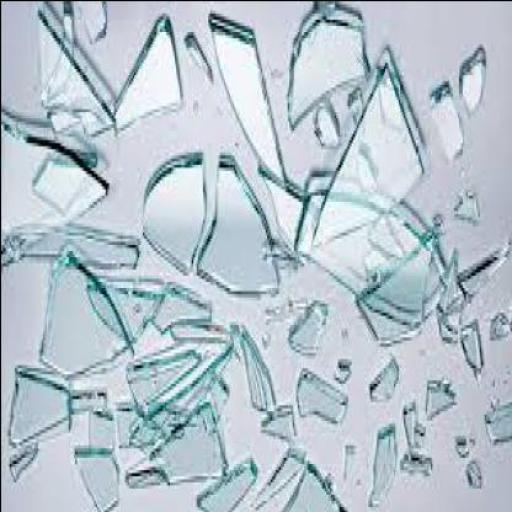glass: (310, 58, 420, 250), (254, 179, 414, 302), (1, 126, 105, 270), (205, 18, 285, 188), (39, 253, 130, 376), (123, 352, 229, 457), (284, 2, 366, 133), (196, 161, 274, 296), (32, 12, 110, 136), (352, 238, 428, 352), (108, 19, 180, 139), (138, 154, 202, 280), (146, 407, 226, 490), (294, 185, 377, 262), (2, 229, 136, 274), (123, 348, 206, 420), (3, 364, 70, 450), (84, 293, 157, 352), (28, 151, 91, 219), (247, 438, 303, 511), (37, 3, 76, 99), (160, 308, 242, 352), (70, 450, 120, 511), (455, 247, 506, 306), (148, 290, 209, 339), (193, 463, 254, 511), (278, 469, 346, 511), (238, 334, 270, 422), (428, 90, 463, 170), (281, 302, 327, 361), (435, 259, 460, 361), (295, 380, 345, 429), (365, 432, 394, 511), (456, 50, 486, 114), (399, 460, 434, 511), (72, 4, 106, 55), (419, 256, 441, 334), (256, 404, 293, 450), (313, 96, 337, 154), (455, 320, 478, 380), (121, 466, 167, 496), (84, 406, 112, 454), (481, 404, 511, 448), (6, 448, 41, 484), (367, 360, 392, 408), (68, 385, 102, 420), (423, 386, 450, 429), (40, 108, 74, 142), (452, 184, 476, 232), (74, 108, 106, 144), (182, 43, 208, 86), (337, 444, 352, 490), (344, 92, 359, 136), (399, 410, 413, 456), (206, 386, 222, 423), (263, 308, 293, 327), (483, 318, 505, 342), (463, 466, 477, 490), (451, 447, 468, 466), (332, 364, 346, 386)
